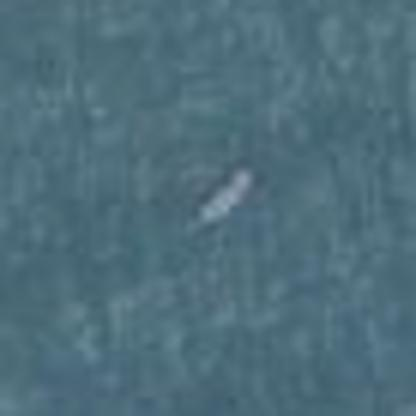ship: (183, 162, 257, 236)
